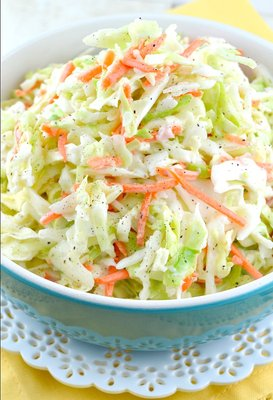sushi: (0, 12, 269, 376)
